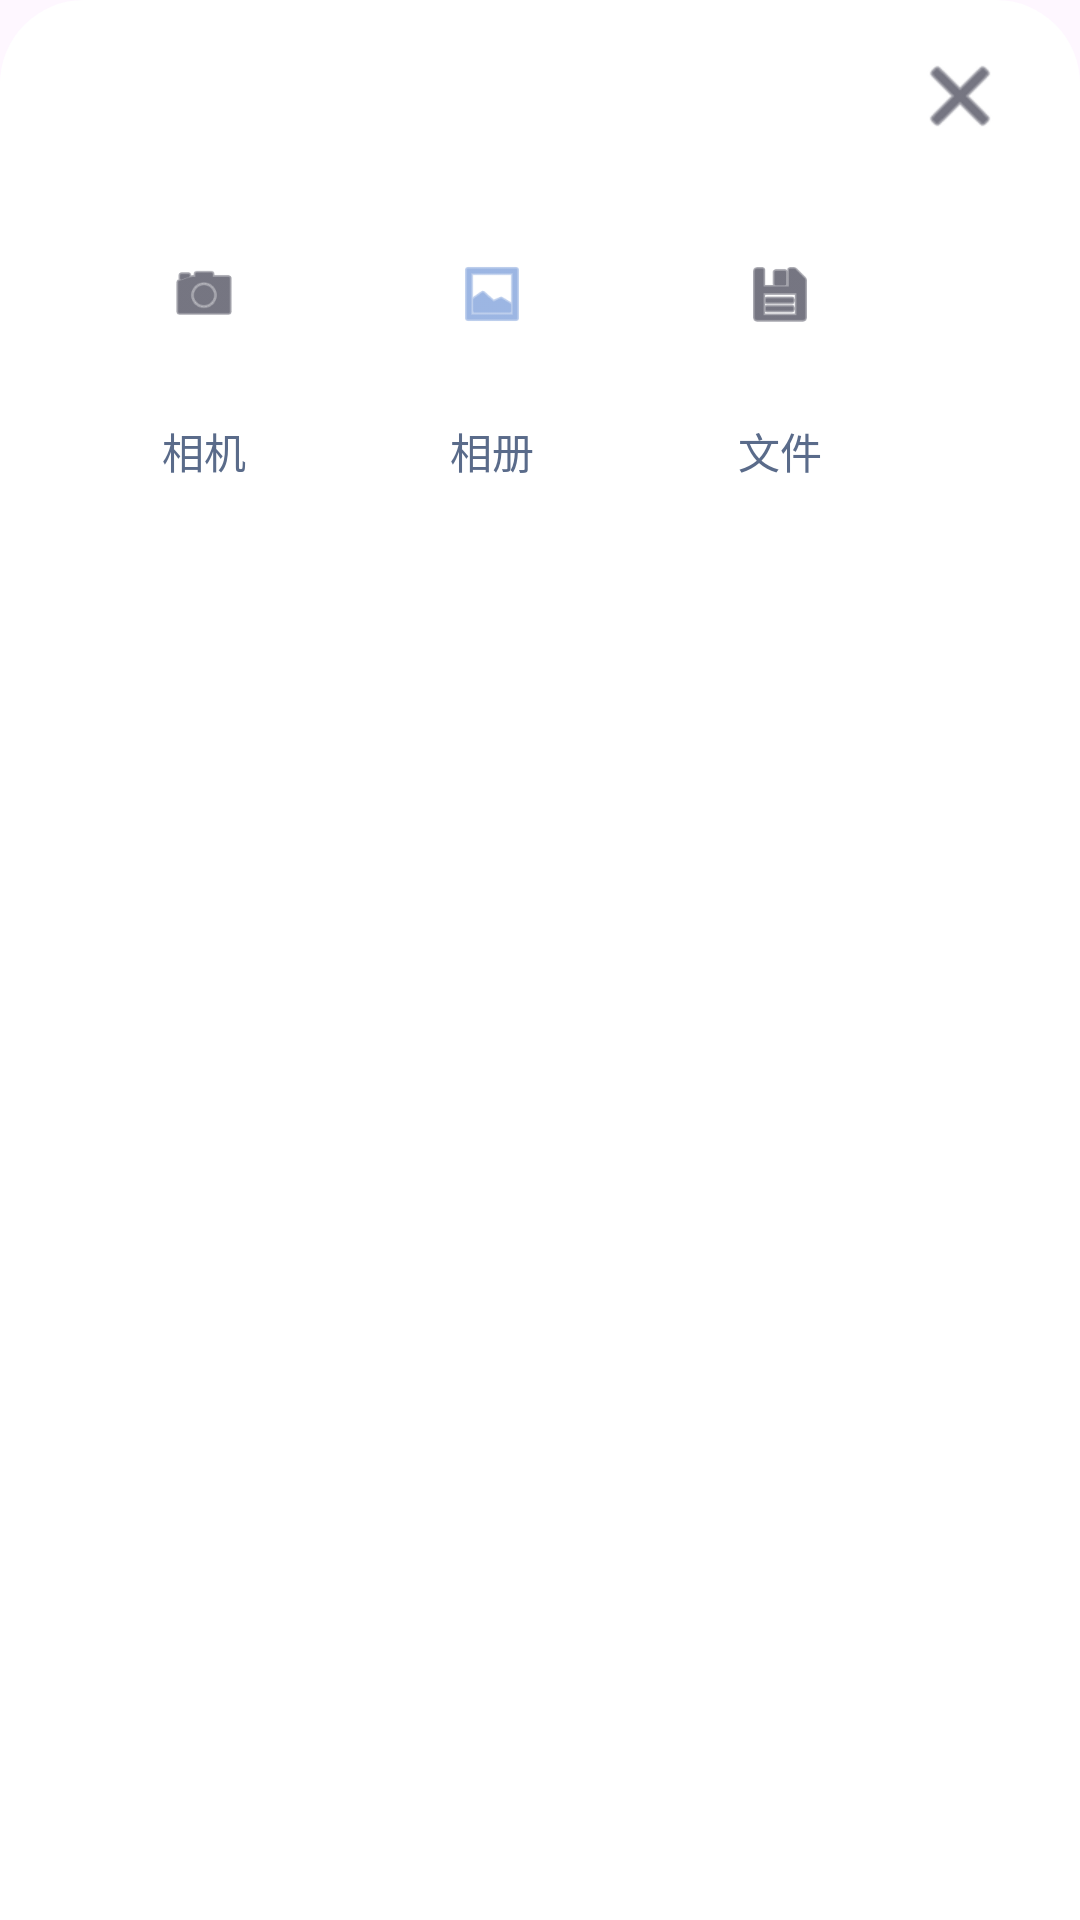

Named icons in this screenshot (1080×1920) and their bounding boxes, (x1, y1, x2, y2):
关闭: (930, 66, 990, 126)
